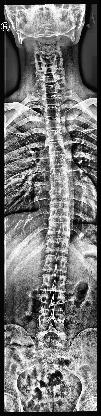Vertebrae: (36, 328, 66, 344), (40, 274, 66, 292), (39, 310, 65, 328), (42, 256, 68, 272), (40, 293, 64, 309), (45, 239, 68, 255), (48, 222, 68, 236), (50, 209, 68, 222), (49, 168, 67, 180), (50, 194, 68, 206), (48, 154, 65, 166), (43, 96, 62, 106), (44, 108, 62, 118), (44, 119, 62, 129), (50, 182, 68, 192), (46, 131, 62, 141), (48, 142, 64, 152)
